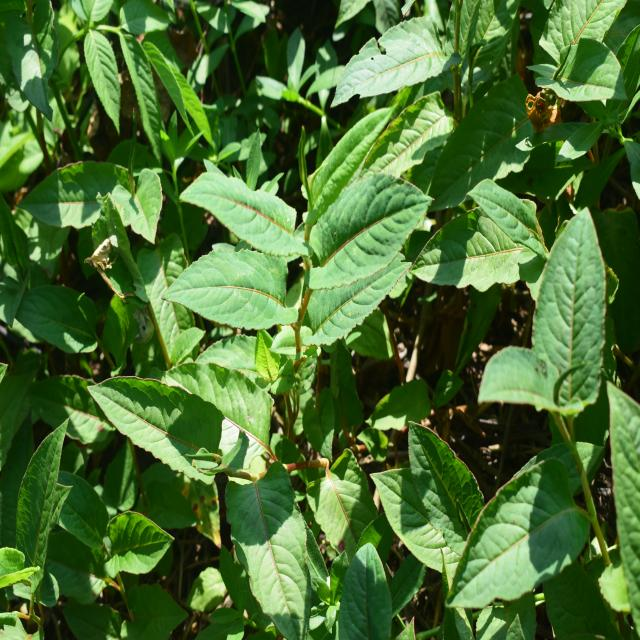Chinese_knotweed: (456, 212, 630, 606), (106, 349, 316, 639), (182, 168, 415, 362)
